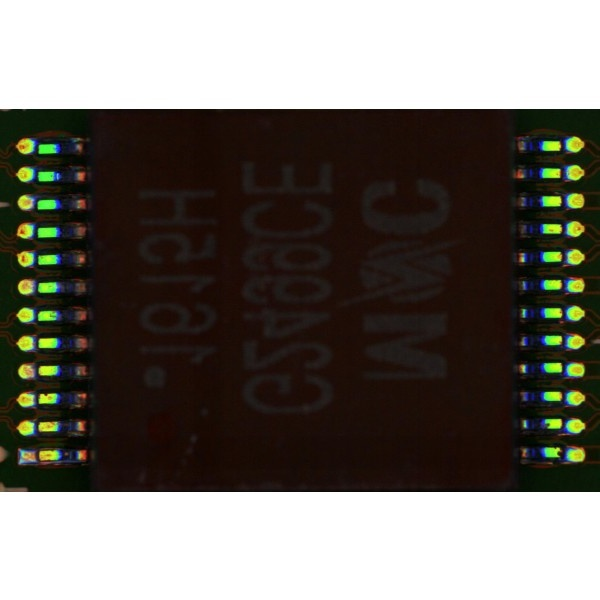Bad_podu: (28, 451, 46, 461), (26, 367, 47, 375)
